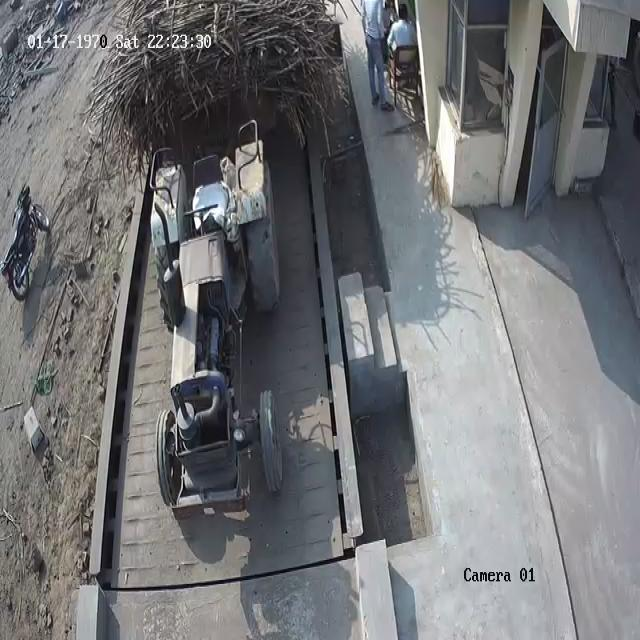Tratores - v5 YOLO V8L 2024-11-13: (150, 136, 286, 516)
